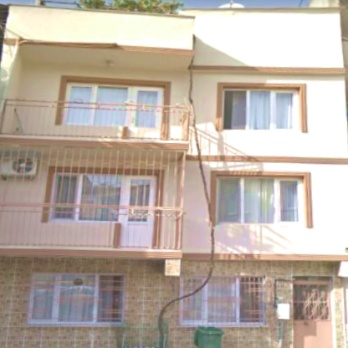door: (290, 275, 337, 348), (118, 173, 157, 248), (130, 85, 164, 139)
